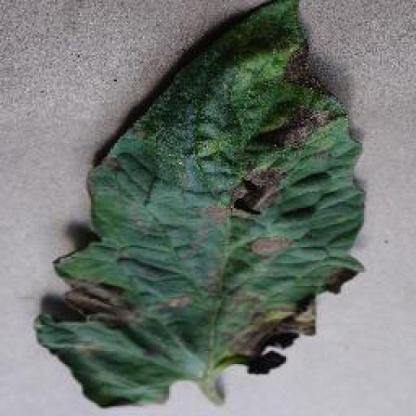Tomato_Blight: (39, 1, 359, 406)
